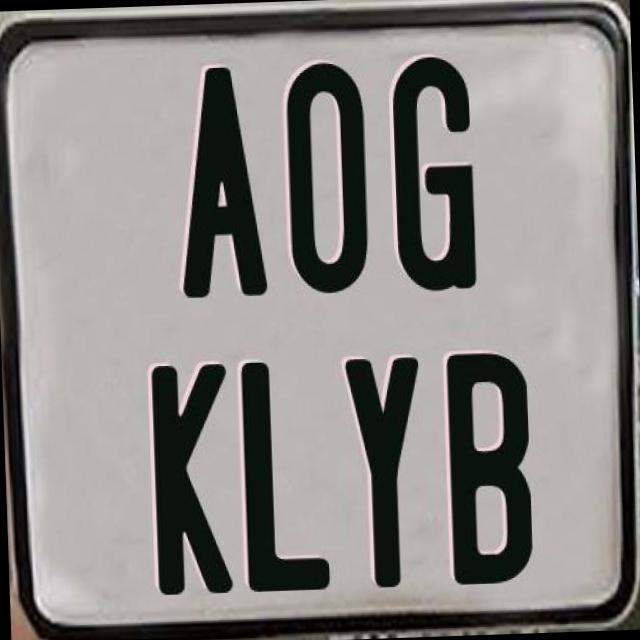0: (280, 60, 366, 298)
A: (172, 61, 267, 295)
B: (446, 349, 542, 589)
G: (390, 54, 476, 292)
K: (150, 363, 233, 603)
L: (240, 358, 334, 592)
Y: (340, 354, 426, 592)
